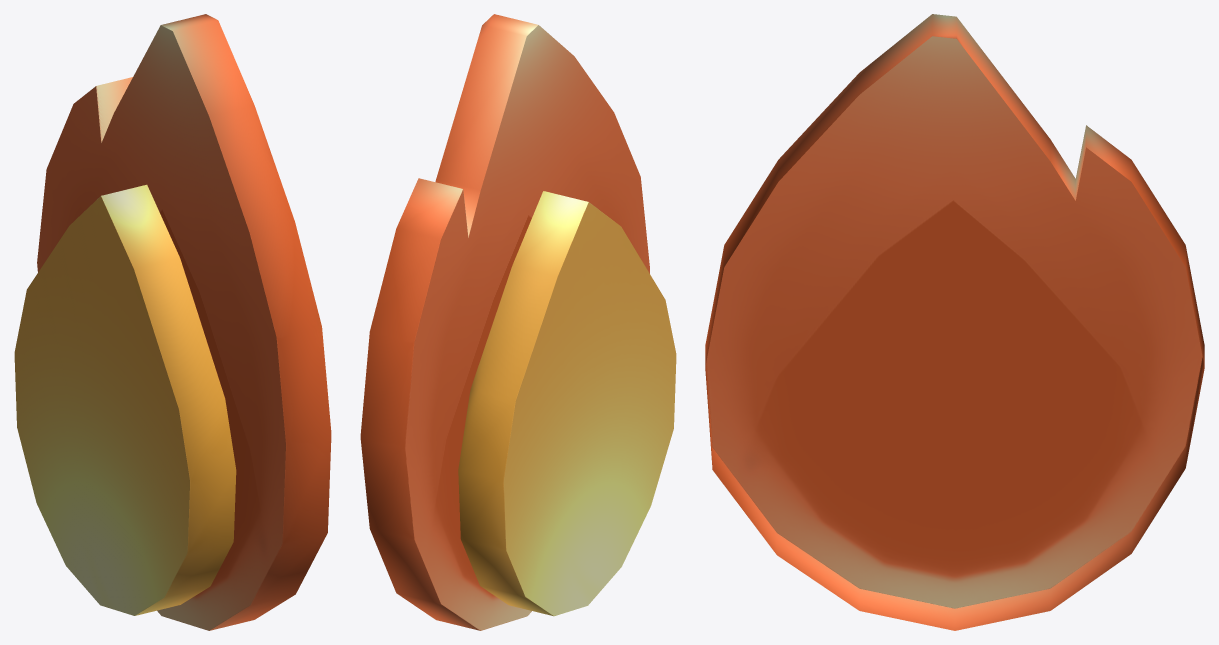
File: Imoji_Fire.glb
3 renders of one model, left to right at view 1: azimuth 30°, elevation 25°; view 2: azimuth 150°, elevation 25°; view 3: azimuth 270°, elevation 25°, orthographic.
Visible parts, largest first — view 1: Emoji_Fire; view 2: Emoji_Fire; view 3: Emoji_Fire.
Part boxes in pixels (x1=…): Emoji_Fire: x1=14, y1=14, x2=331, y2=630; Emoji_Fire: x1=360, y1=14, x2=676, y2=630; Emoji_Fire: x1=705, y1=14, x2=1204, y2=630.
Bounding box in the file's own units: 0.1426 × 0.7565 × 0.5757.
Materials: 1 (1 with a texture image).
